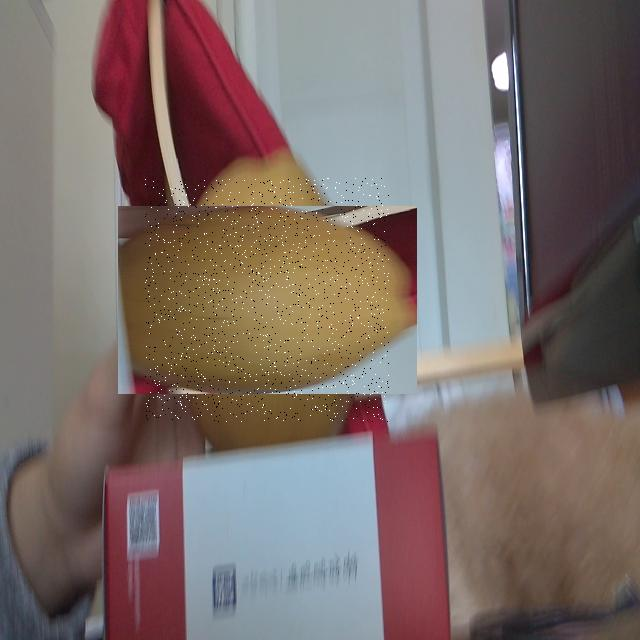pear: (145, 178, 389, 422)
